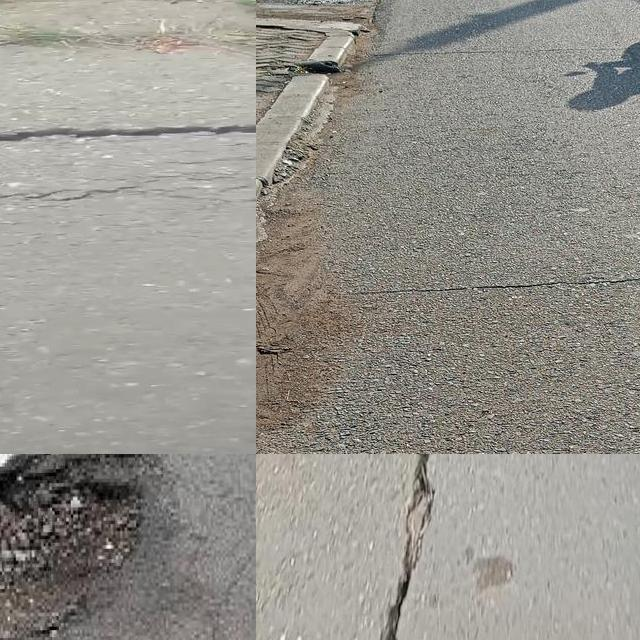Lubang: (0, 454, 160, 640)
Melintang: (287, 264, 640, 310), (0, 112, 256, 156)
Memanjang: (374, 454, 444, 640)
